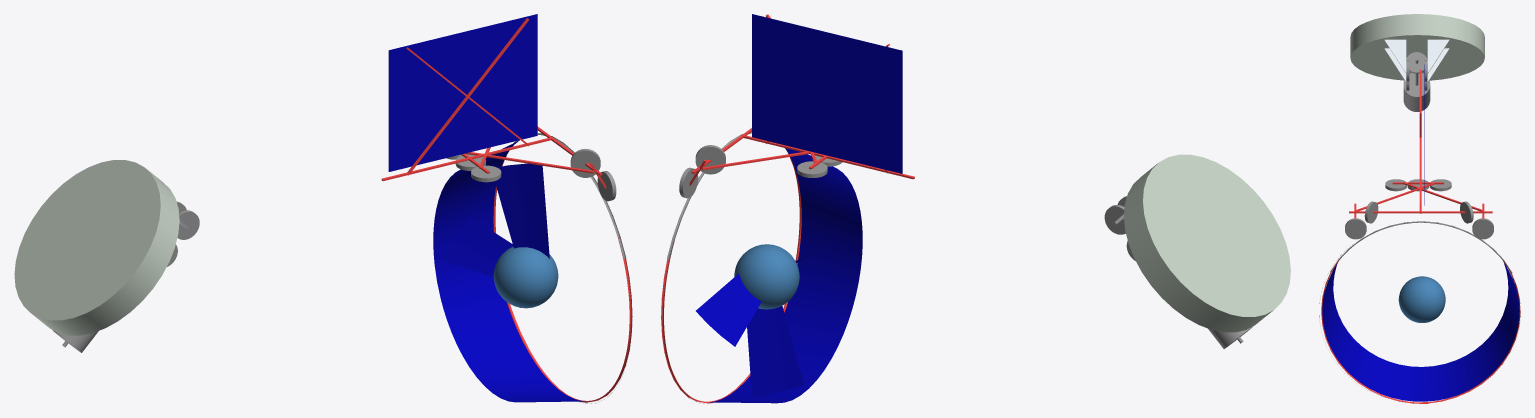
Rendered from Simplicity.gltf.
The picture shows the model from 3 angles, left to right: view 1: azimuth 30°, elevation 25°; view 2: azimuth 150°, elevation 25°; view 3: azimuth 270°, elevation 25°; orthographic projection. The views are drawn at different scales.
Parts seen in each view (by area): view 1: Object54, Object162, Object151, Object155, Object158, Object156, Object161, Object17, Object160, Object10; view 2: Object54, Object162, Object151, Object154, Object158, Object156, Object140, Object9, Object160; view 3: Object151, Object54, Object158, Object46, Object129, Object130, Object139, Object14, Object19, Object159, Object9, Object10 (+10 smaller).
Part boxes in pixels (box(x1,y1,x2,y2)): Object54: box(14, 160, 179, 335); Object162: box(388, 14, 537, 171); Object151: box(433, 140, 585, 402); Object155: box(495, 163, 549, 258); Object158: box(493, 247, 558, 308); Object156: box(440, 217, 513, 276); Object161: box(407, 18, 529, 175); Object17: box(570, 148, 600, 177); Object160: box(381, 137, 553, 181); Object10: box(567, 237, 632, 402); Object54: box(1123, 154, 1290, 332); Object162: box(752, 14, 902, 173); Object151: box(710, 148, 862, 403); Object154: box(747, 306, 803, 398); Object158: box(734, 244, 799, 309); Object156: box(696, 273, 761, 346); Object140: box(695, 145, 725, 174); Object9: box(661, 241, 736, 403); Object160: box(741, 134, 914, 179); Object151: box(1322, 261, 1519, 401); Object54: box(1350, 14, 1484, 80); Object158: box(1398, 276, 1445, 322); Object46: box(1403, 73, 1430, 111); Object129: box(1427, 39, 1449, 73); Object130: box(1384, 39, 1406, 73); Object139: box(1472, 218, 1493, 239); Object14: box(1330, 221, 1512, 273); Object19: box(1345, 218, 1366, 239); Object159: box(1349, 211, 1492, 213); Object9: box(1414, 261, 1520, 403); Object10: box(1321, 260, 1428, 403).
Bounding box in the file's own units: 4.01 × 2.75 × 1.8.
